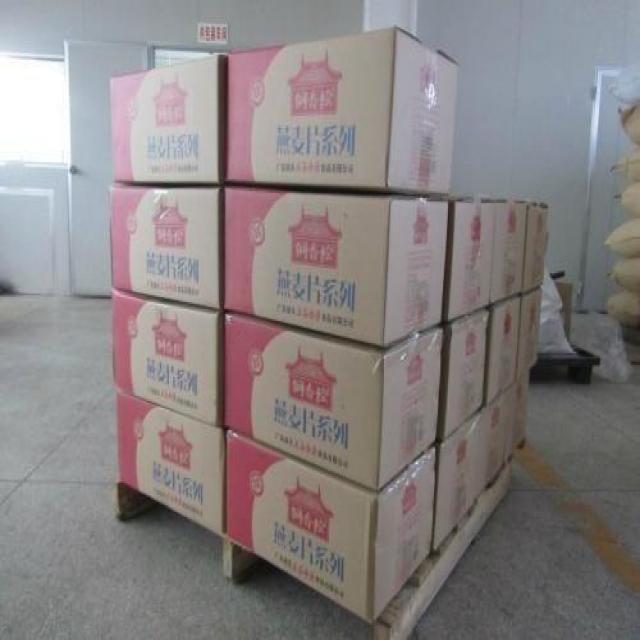box: (221, 298, 443, 491), (220, 424, 440, 617), (224, 25, 458, 195), (222, 177, 448, 348), (109, 380, 228, 538), (106, 282, 230, 426), (106, 50, 224, 189), (102, 182, 228, 310), (432, 183, 494, 327), (434, 304, 490, 442), (436, 402, 482, 558), (486, 190, 528, 302), (484, 290, 518, 400)
